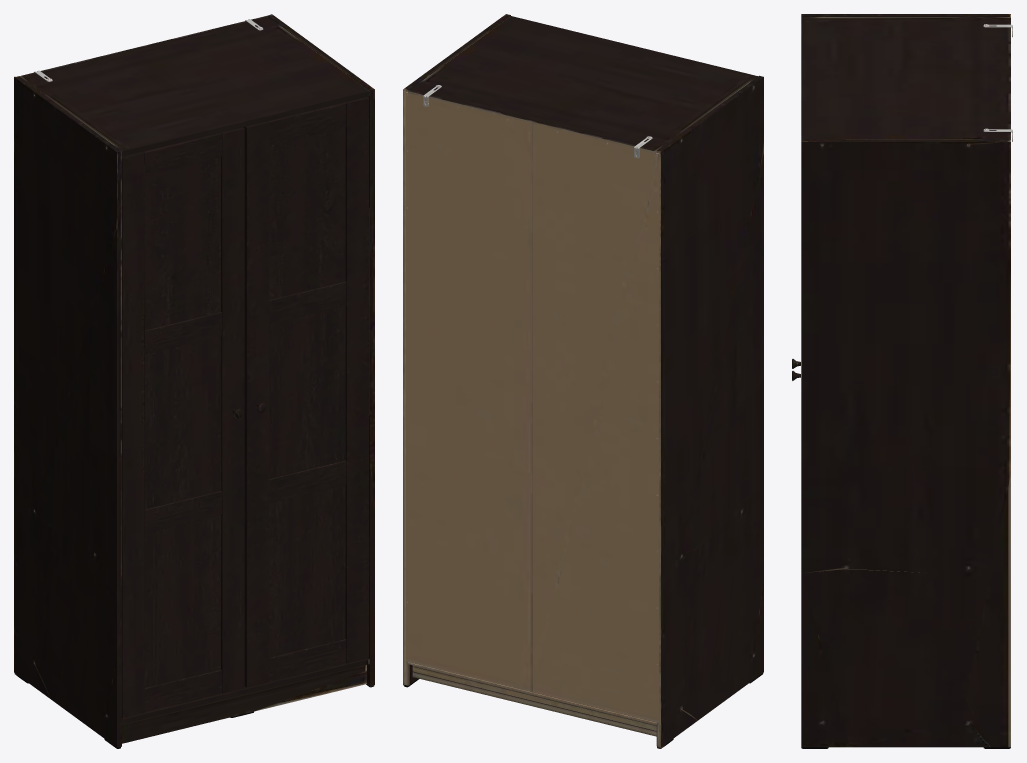
3 views of the same model, side by side, from view 1: azimuth 30°, elevation 25°; view 2: azimuth 150°, elevation 25°; view 3: azimuth 270°, elevation 25° (orthographic).
Parts seen in each view (by area): view 1: ASY_ART_40586805_S01_NV01, ASY_LPT02_40586805_S01_NV01, ASY_LPT01_40586805_S01_NV01; view 2: ASY_ART_40586805_S01_NV01; view 3: ASY_ART_40586805_S01_NV01.
Part boxes in pixels (x1,y1,x2,y2): ASY_ART_40586805_S01_NV01: (14, 14, 374, 748); ASY_LPT02_40586805_S01_NV01: (243, 97, 369, 687); ASY_LPT01_40586805_S01_NV01: (122, 127, 244, 717); ASY_ART_40586805_S01_NV01: (403, 14, 763, 748); ASY_ART_40586805_S01_NV01: (792, 14, 1012, 748).
Bounding box in the file's own units: 0.7948 × 1.76 × 0.5789.
3 materials, 3 textured.
